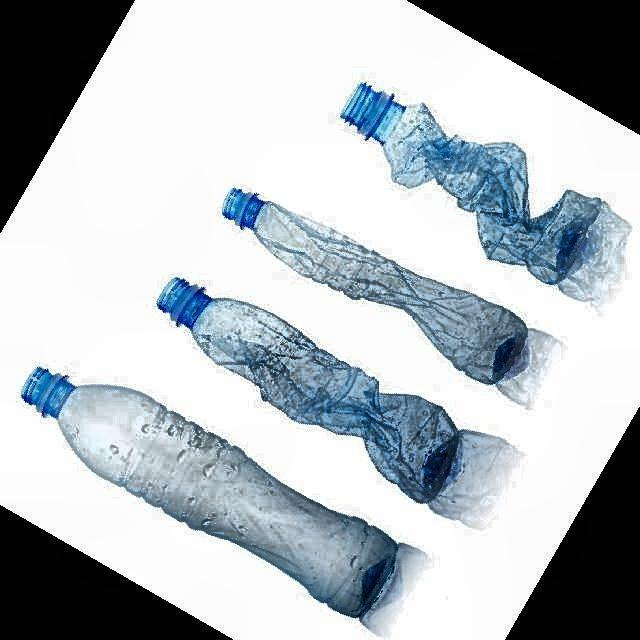plastic: (22, 368, 399, 616), (158, 279, 461, 502), (222, 189, 558, 389), (341, 84, 628, 299)
